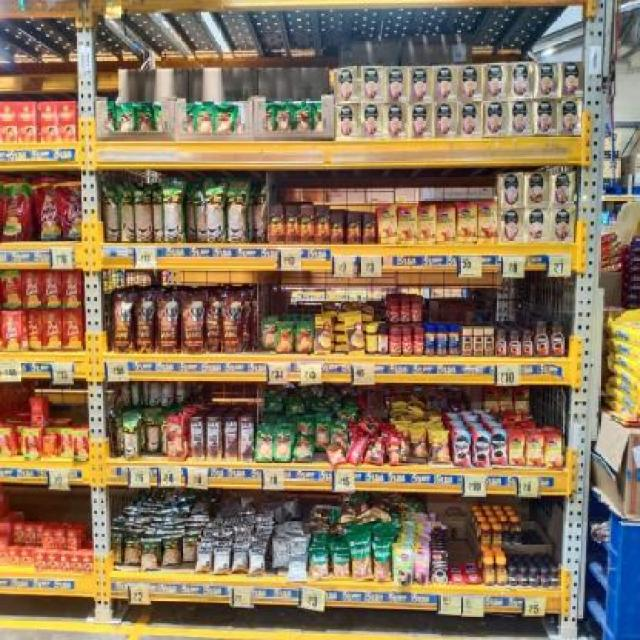Coffee: (478, 202, 498, 243), (458, 205, 477, 243), (378, 208, 397, 244), (398, 208, 417, 244), (418, 208, 436, 244), (437, 208, 455, 243), (454, 434, 471, 466), (491, 432, 507, 465), (474, 434, 490, 466), (509, 435, 525, 465), (528, 437, 544, 466), (546, 438, 562, 467), (552, 320, 565, 354), (536, 322, 549, 356), (514, 388, 529, 412), (484, 388, 498, 410), (497, 560, 508, 586), (500, 386, 512, 409), (484, 328, 494, 355), (484, 559, 494, 586), (496, 330, 506, 356), (509, 331, 519, 357), (473, 328, 482, 355), (522, 332, 532, 356), (463, 330, 472, 356), (492, 523, 502, 545), (480, 523, 490, 545), (540, 569, 549, 586), (520, 568, 528, 586), (509, 569, 517, 586), (530, 570, 538, 587), (551, 570, 560, 585)
